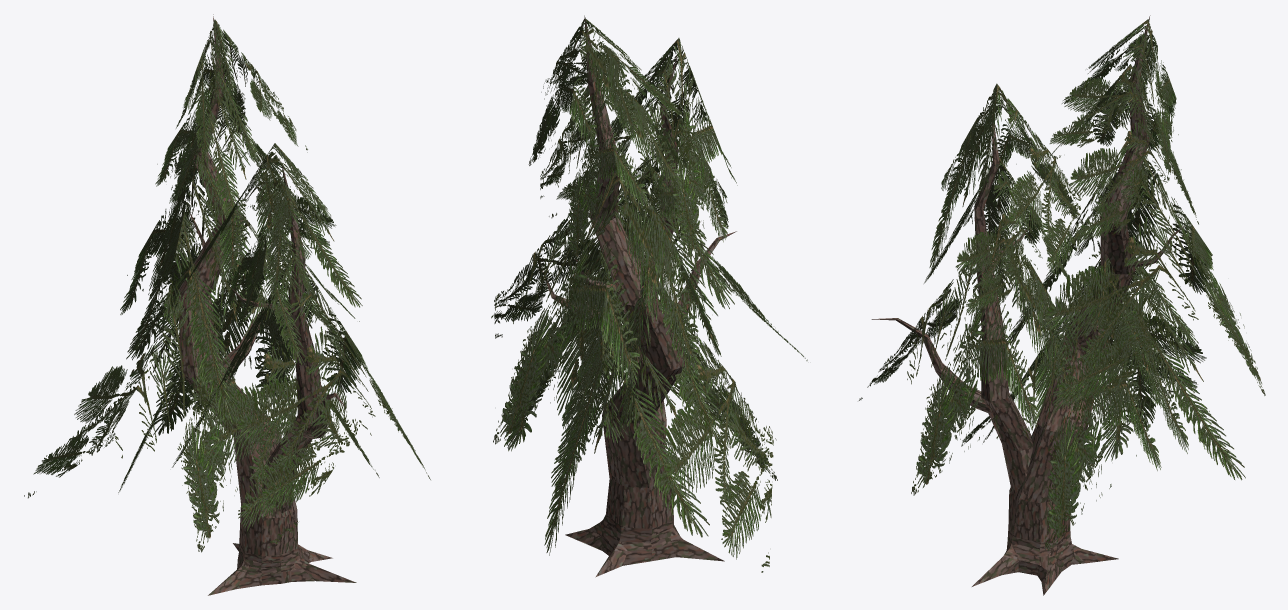
The model's file is Z_Forward_Y_Up.fbx.
The picture shows the model from 3 angles, left to right: view 1: azimuth 30°, elevation 25°; view 2: azimuth 150°, elevation 25°; view 3: azimuth 270°, elevation 25°; orthographic projection. The views are drawn at different scales.
Visible parts, largest first — view 1: Tree_Small; view 2: Tree_Small; view 3: Tree_Small.
Part boxes in pixels (<box>): Tree_Small: <box>24,14,430,595</box>; Tree_Small: <box>491,15,807,577</box>; Tree_Small: <box>859,15,1265,595</box>.
Bounding box in the file's own units: 470 × 767 × 535.
Materials: 2 (2 with a texture image).
